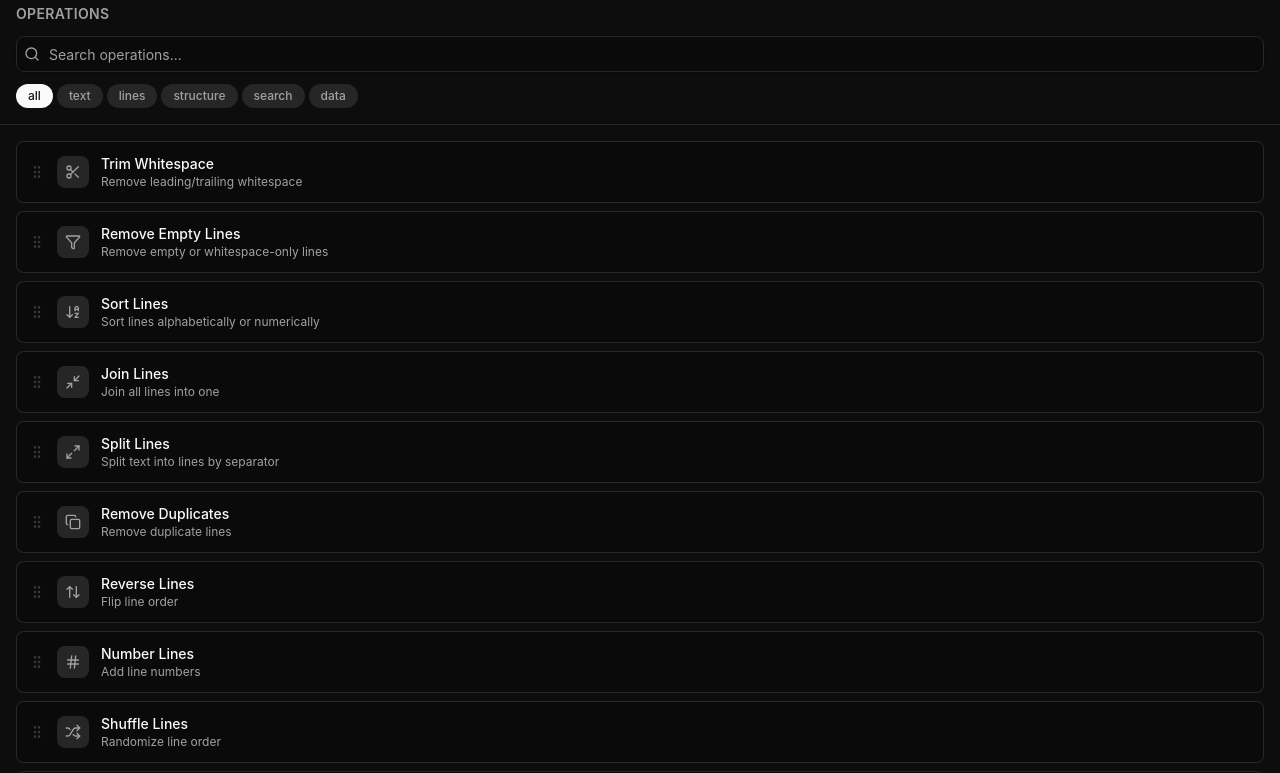
Test: TransformerToolbox › should clear search when input is cleared
Type search query
Type "trim" into the field with placeholder "Search operations..." at [640, 54], box [16,36,1264,72]
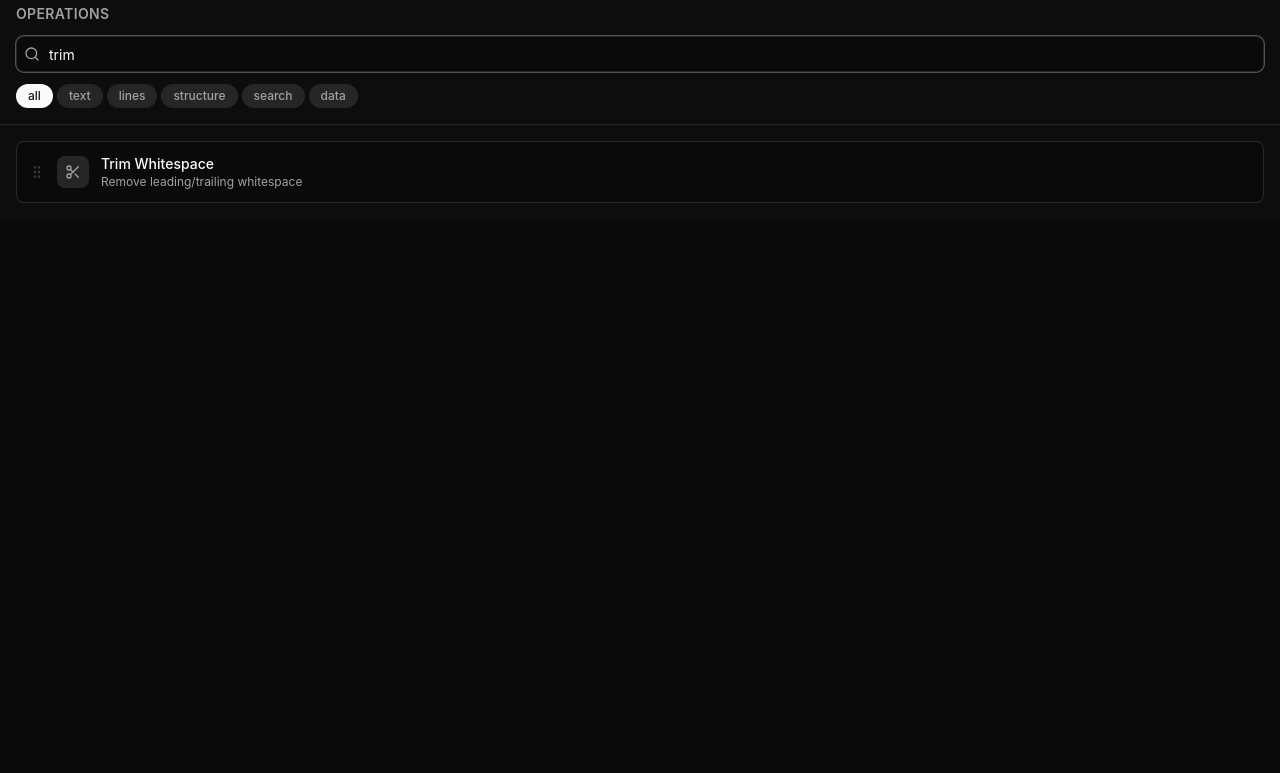
Expected: the text "Replace Text" is not shown
Clear search
Clear the field with placeholder "Search operations..." at [640, 54], box [16,36,1264,72]
(page scrolled)
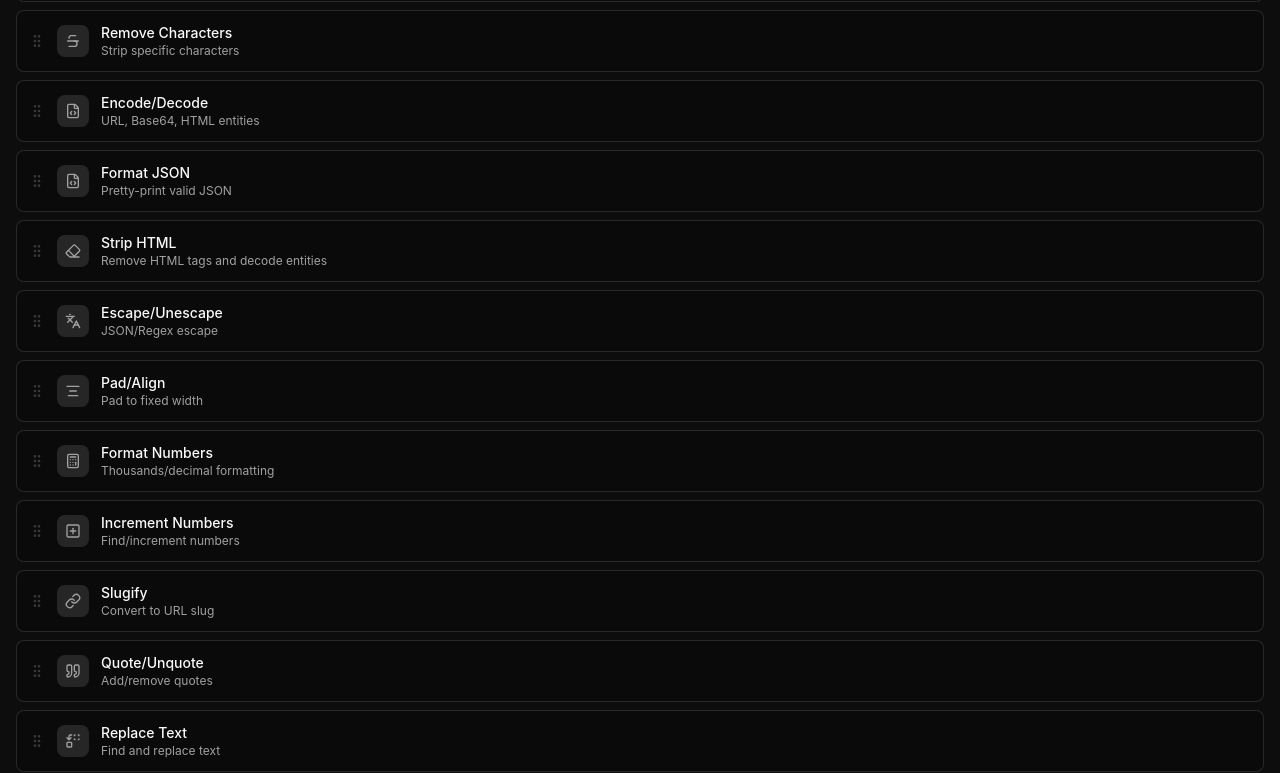
Expected: the text "Remove Characters" is shown, [101,24,232,41]
Expected: the text "Encode/Decode" is shown, [101,94,208,111]
Expected: the text "Format JSON" is shown, [101,164,190,181]
